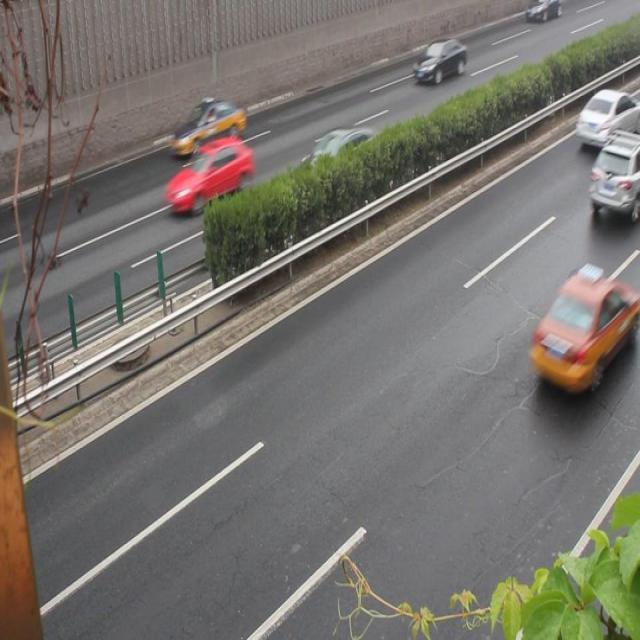car: (527, 268, 630, 391), (165, 134, 252, 220), (294, 125, 378, 212), (587, 132, 640, 215), (170, 100, 245, 156), (576, 87, 640, 150), (413, 38, 464, 82)
